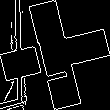L_N: (34, 27, 76, 83)
